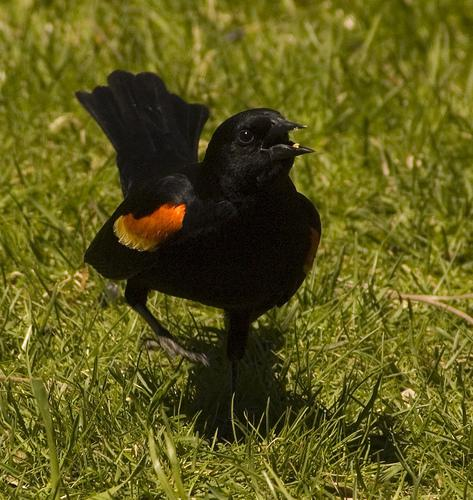010.Red_winged_Blackbird: (78, 70, 322, 401)
